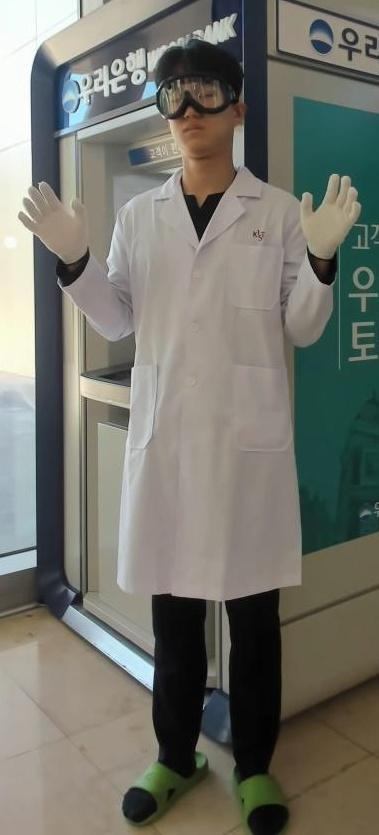lab_coat: (108, 194, 297, 589)
